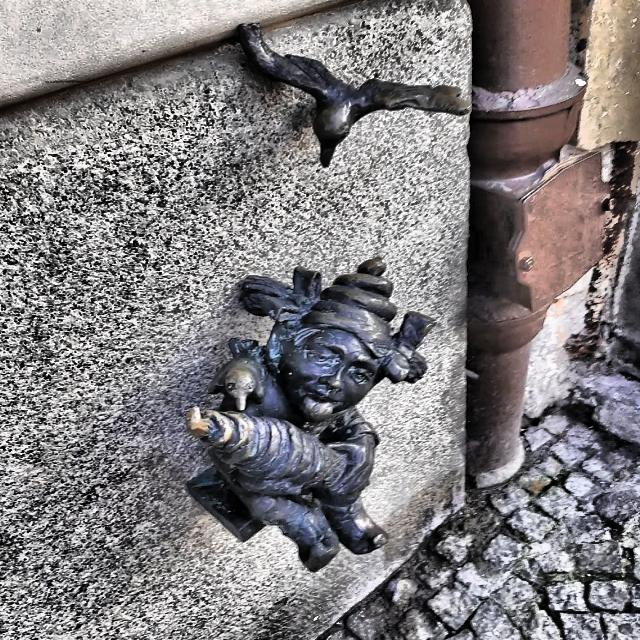Dziupelka: (183, 259, 437, 574), (236, 25, 467, 168)
